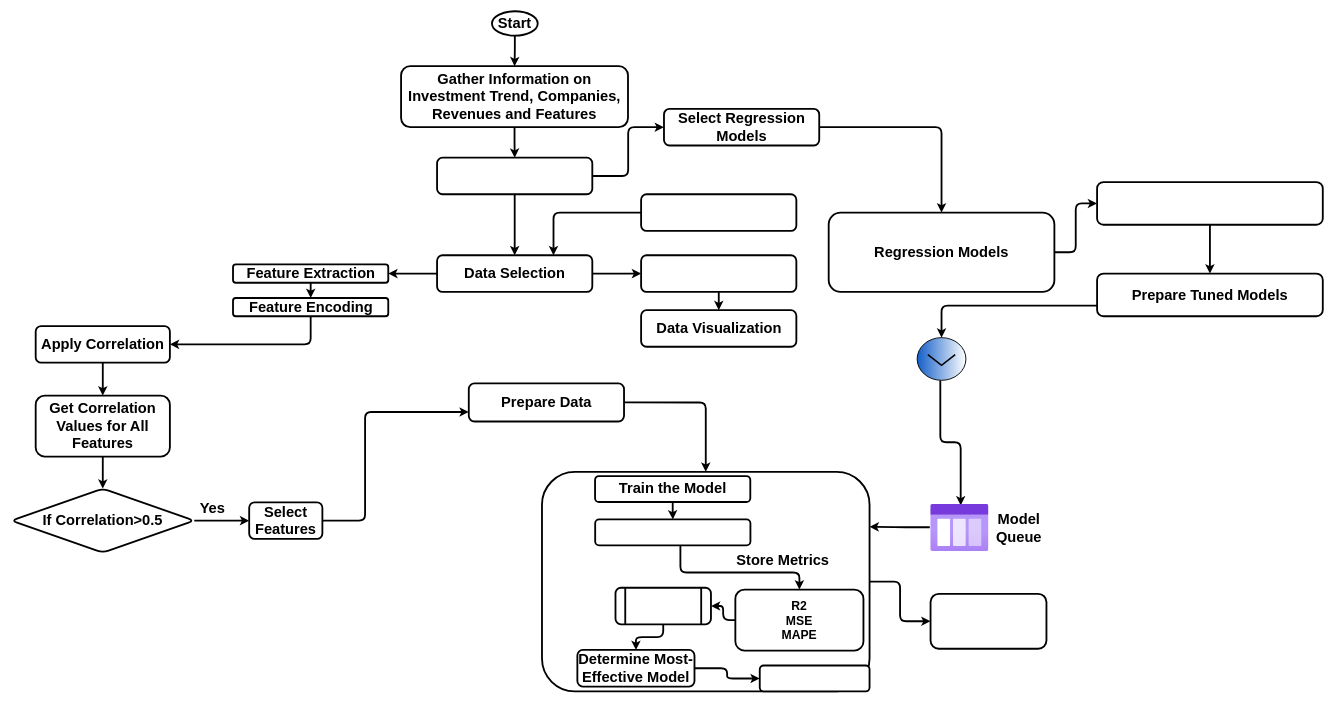
Image size: 1334x703. Some labels were removed from this diagram. The box of each missing label's shape, as (x1, y1, x2, y2) in pixels:
Compare: (614, 587, 712, 625)
Data Analysis: (640, 254, 797, 292)
Evaluate: (759, 664, 870, 692)
Finalize Research: (929, 593, 1047, 649)
Hyperparameter Tuning: (1096, 181, 1323, 225)
Investment Trend Historical Data: (640, 193, 797, 231)
Review Previous Research Papers: (436, 156, 593, 195)
Test the Model: (594, 518, 751, 546)
